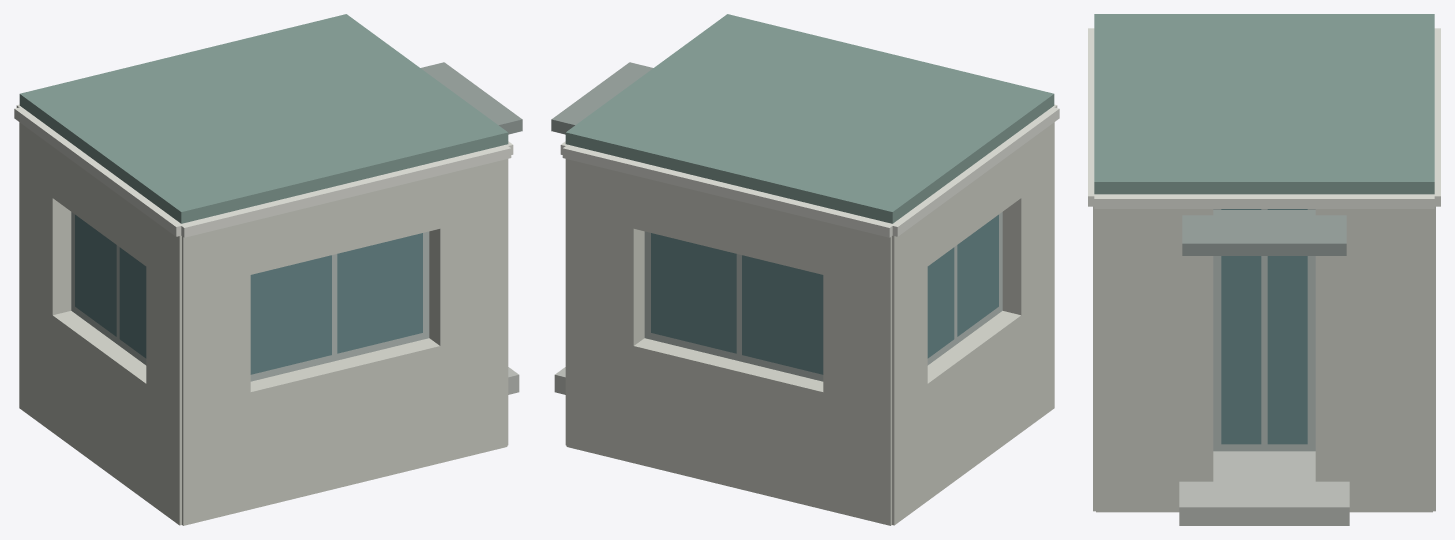
3 renders of one model, left to right at view 1: azimuth 30°, elevation 25°; view 2: azimuth 150°, elevation 25°; view 3: azimuth 270°, elevation 25°, orthographic. The views are drawn at different scales.
Parts seen in each view (by area): view 1: guard__wall, guard__roof, guard__glass, guard__white, guard__frame, guard__metal; view 2: guard__wall, guard__roof, guard__glass, guard__white, guard__frame, guard__metal; view 3: guard__wall, guard__roof, guard__glass, guard__threshold-entry, guard__white, guard__metal, guard__frame.
Part boxes in pixels (box(x1,y1,x2,y2)): guard__wall: box(19, 122, 508, 525); guard__roof: box(19, 14, 508, 223); guard__glass: box(75, 214, 422, 374); guard__white: box(14, 104, 513, 237); guard__frame: box(71, 212, 429, 381); guard__metal: box(421, 62, 522, 134); guard__wall: box(565, 122, 1054, 525); guard__roof: box(565, 14, 1054, 223); guard__glass: box(651, 214, 998, 374); guard__white: box(560, 104, 1059, 237); guard__frame: box(644, 212, 1002, 381); guard__metal: box(551, 62, 652, 134); guard__wall: box(1093, 206, 1435, 512); guard__roof: box(1094, 14, 1434, 194); guard__glass: box(1221, 209, 1307, 444); guard__threshold-entry: box(1179, 451, 1349, 525); guard__white: box(1088, 28, 1440, 208); guard__metal: box(1182, 210, 1346, 255); guard__frame: box(1213, 209, 1315, 451).
Bounding box in the file's own units: 4.15 × 3.21 × 3.11.
